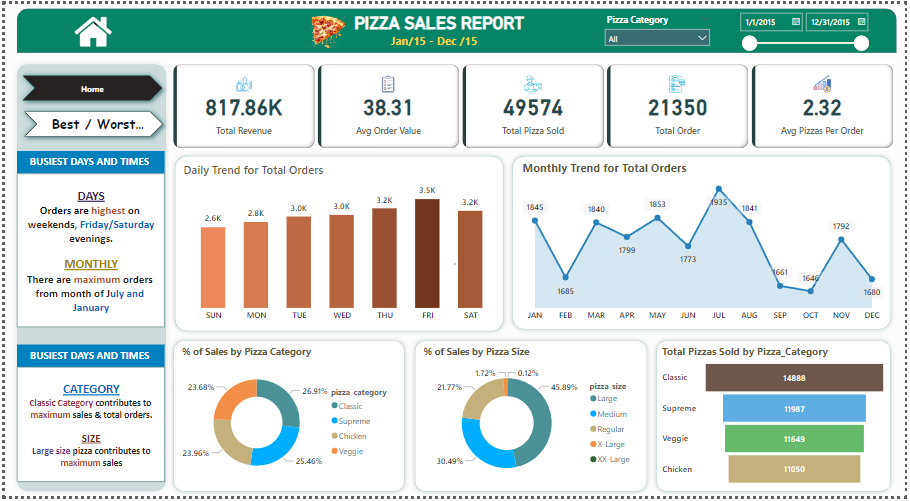

Layout of this report page (visuals, bound fields, positions):
{"tool":"powerbi","page":{"name":"Home","canvas":[1500,820],"ordinal":0},"visuals":[{"type":"cardVisual","fields":{"Data":["pizza_sales.Total Revenue","pizza_sales.Avg Order Value","pizza_sales.Total Pizza Sold","pizza_sales.Total Order","pizza_sales.Avg Pizzas Per Order"]},"box":[275.7,94.3,1210,150],"z":0},{"type":"shape","box":[20,8,1466,74],"z":1000},{"type":"shape","box":[13.3,93.3,263.3,726.7],"z":2000},{"type":"textbox","box":[568,10,312,50],"z":3000},{"type":"textbox","box":[638,42,170,50],"z":4000},{"type":"shape","box":[274.3,244.3,564.3,308.6],"z":5000},{"type":"columnChart","title":"Daily Trend for Total Orders","fields":{"Category":["pizza_sales.Order Day"],"Y":["pizza_sales.Total Order"]},"box":[292.9,262.9,538.6,275.7],"z":6000},{"type":"shape","box":[838.6,244.3,647.1,305.7],"z":7000},{"type":"shape","box":[273.3,551.7,401.7,268.3],"z":8000},{"type":"shape","box":[675,551.7,403.3,268.3],"z":9000},{"type":"shape","box":[1078.3,551.7,406.7,268.3],"z":10000},{"type":"donutChart","title":"% of Sales by Pizza Category","fields":{"Category":["pizza_sales.pizza_category"],"Y":["pizza_sales.Total Revenue"]},"box":[290,567.1,367.1,238.1],"z":11000},{"type":"donutChart","title":"% of Sales by Pizza Size","fields":{"Y":["pizza_sales.Total Revenue"],"Category":["pizza_sales.pizza_size"]},"box":[693.3,566.7,366.7,240],"z":12000},{"type":"textbox","box":[20,244.3,245.7,37.1],"z":13000},{"type":"textbox","box":[20,282.9,245.7,255.7],"z":14000},{"type":"textbox","box":[20,567.5,246.2,37.5],"z":15000},{"type":"textbox","box":[20,605,246.2,191.2],"z":16000},{"type":"slicer","fields":{"Values":["pizza_sales.pizza_category"]},"box":[990,10,194.4,100],"z":17000},{"type":"slicer","fields":{"Values":["pizza_sales.order_date"]},"box":[1212,4,236,76],"z":18000},{"type":"pageNavigator","box":[20,110,251.4,60],"z":19000},{"type":"pageNavigator","box":[21.4,170,250,60],"z":20000},{"type":"image","box":[490,10,94,72],"z":21000},{"type":"image","box":[88.9,10,114.4,72.2],"z":22000},{"type":"areaChart","title":"Monthly Trend for Total Orders","fields":{"Category":["pizza_sales.Order Month"],"Y":["pizza_sales.Total Order"]},"box":[857.5,260,612.5,277.5],"z":23000},{"type":"funnel","title":"Total Pizzas Sold by Pizza_Category","fields":{"Category":["pizza_sales.pizza_category"],"Y":["pizza_sales.Total Pizza Sold"]},"box":[1090,566.7,383.3,240],"z":24000}]}

Visuals, with their boxes in screenshot pixels (x1, y1, x2, y2), scaled from the page's 1500x820 canvas onto the 910x501 screenshot:
cardVisual - pizza_sales.Total Revenue x pizza_sales.Avg Order Value: (167,58,901,149)
shape: (12,5,902,50)
shape: (8,57,168,500)
textbox: (345,6,534,37)
textbox: (387,26,490,56)
shape: (166,149,509,338)
"Daily Trend for Total Orders" columnChart: (178,161,504,329)
shape: (509,149,901,336)
shape: (166,337,410,500)
shape: (410,337,654,500)
shape: (654,337,901,500)
"% of Sales by Pizza Category" donutChart: (176,346,399,492)
"% of Sales by Pizza Size" donutChart: (421,346,643,493)
textbox: (12,149,161,172)
textbox: (12,173,161,329)
textbox: (12,347,161,370)
textbox: (12,370,161,486)
slicer - pizza_sales.pizza_category: (601,6,719,67)
slicer - pizza_sales.order_date: (735,2,878,49)
pageNavigator: (12,67,165,104)
pageNavigator: (13,104,165,141)
image: (297,6,354,50)
image: (54,6,123,50)
"Monthly Trend for Total Orders" areaChart: (520,159,892,328)
"Total Pizzas Sold by Pizza_Category" funnel: (661,346,894,493)
